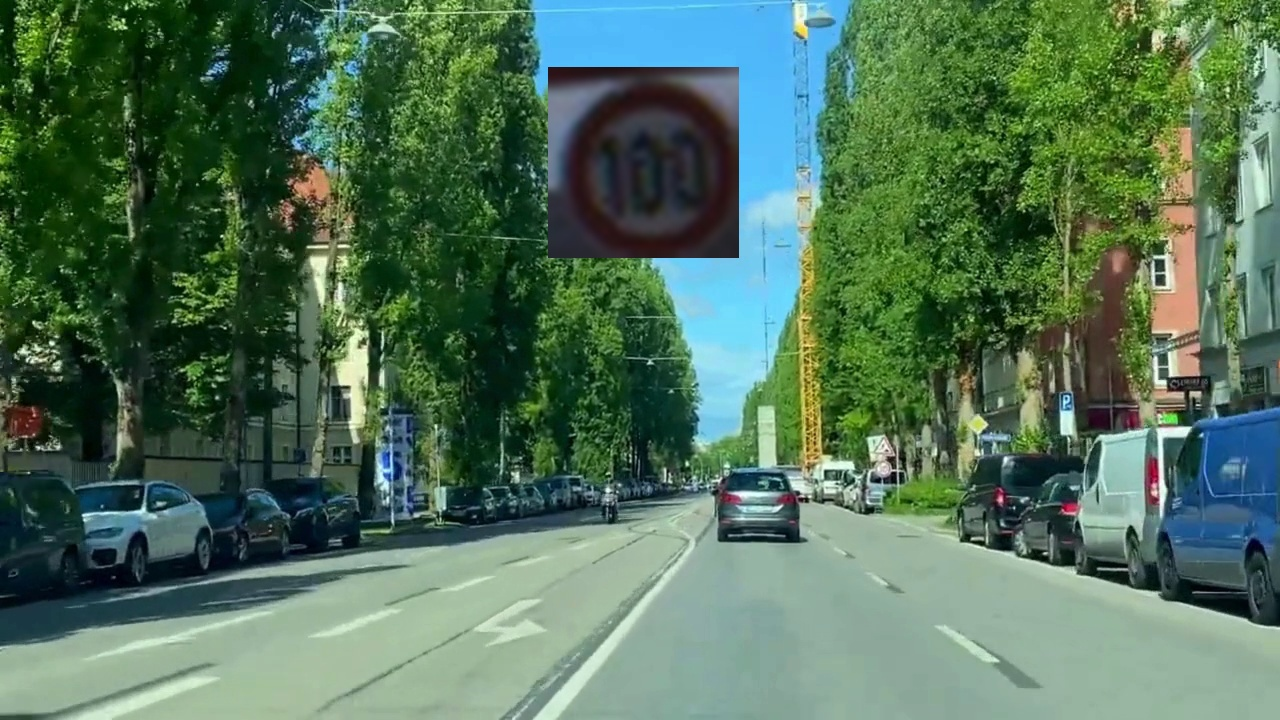Speed 100: (548, 67, 739, 258)
